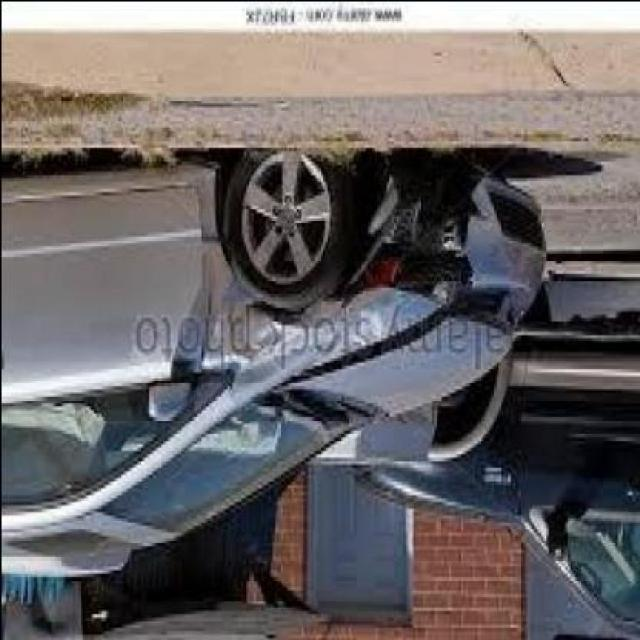damage: (199, 159, 488, 400)
